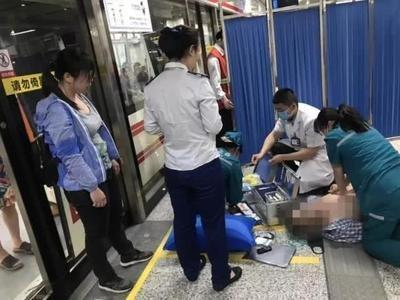Fall-Detected: (271, 171, 385, 259)
